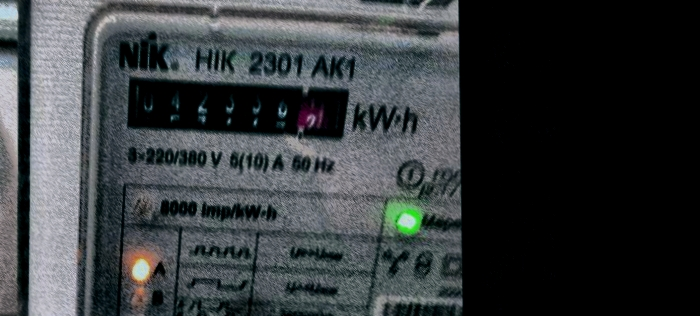0: (140, 86, 154, 116)
2: (192, 88, 211, 115)
3: (219, 87, 236, 116), (248, 88, 263, 116)
4: (166, 87, 183, 114)
6: (273, 93, 289, 121)
screen: (115, 67, 356, 151)
